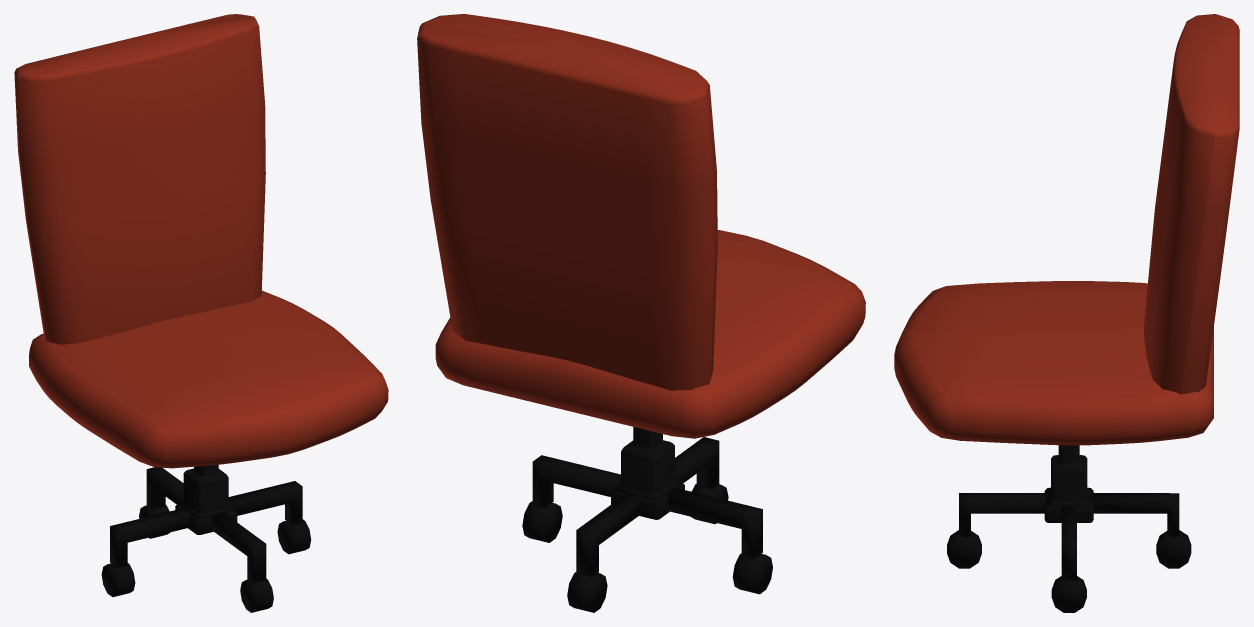
Rendered from Chair.fbx.
3 renders of one model, left to right at view 1: azimuth 30°, elevation 25°; view 2: azimuth 150°, elevation 25°; view 3: azimuth 270°, elevation 25°, orthographic. The views are drawn at different scales.
Visible parts, largest first — view 1: chair; view 2: chair; view 3: chair.
Part boxes in pixels (<box>): chair: <box>14,14,388,612</box>; chair: <box>417,14,865,612</box>; chair: <box>894,14,1239,612</box>.
Size of the model in its own units: 75.14 by 132 by 82.46.
